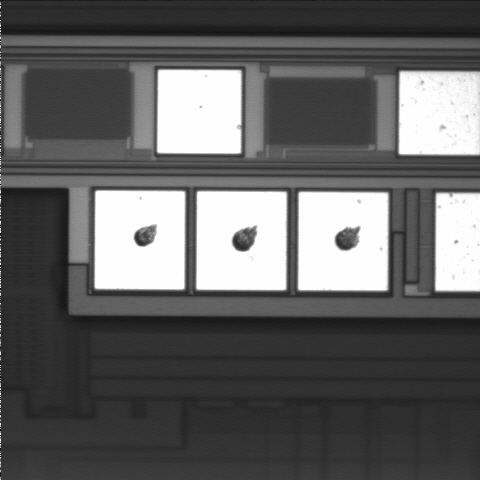pad: (196, 191, 287, 290), (95, 191, 185, 289), (298, 192, 388, 290), (157, 70, 241, 154)
